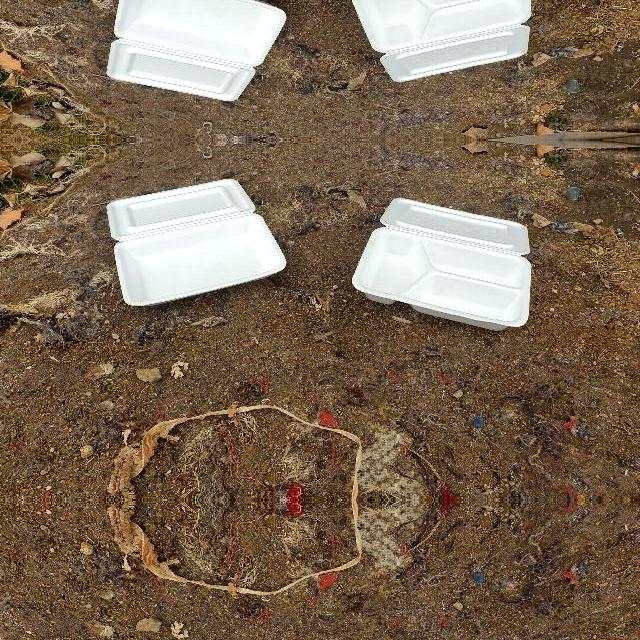Styrofoam: (352, 196, 534, 334), (104, 175, 286, 308), (352, 197, 532, 330), (106, 179, 286, 305), (104, 0, 286, 104), (106, 0, 286, 101), (352, 0, 534, 84), (352, 0, 532, 83)
